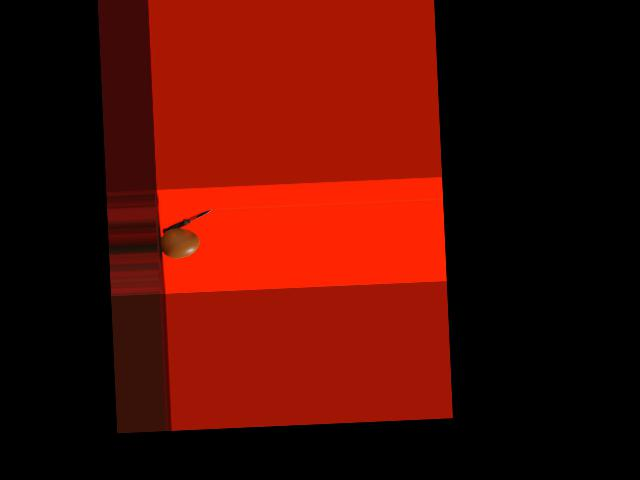egg: (160, 227, 199, 258)
